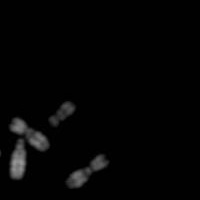chromosome: (67, 156, 109, 189), (10, 118, 50, 152), (10, 137, 26, 180), (49, 101, 75, 126)
